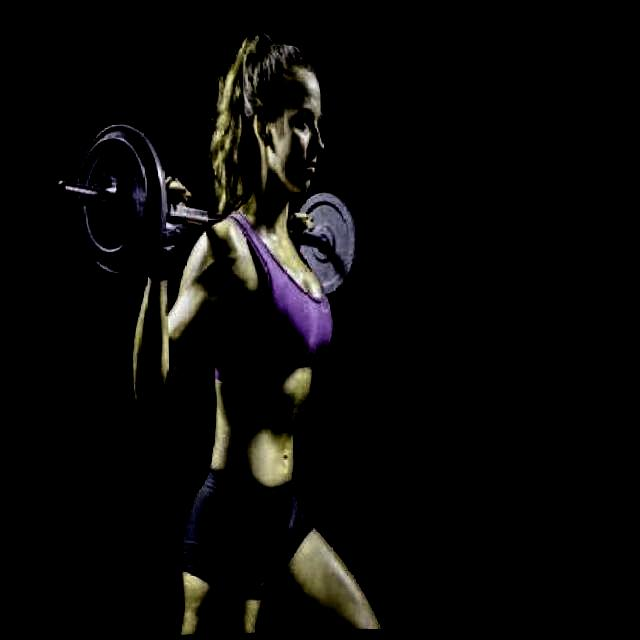barbell: (53, 123, 162, 282)
